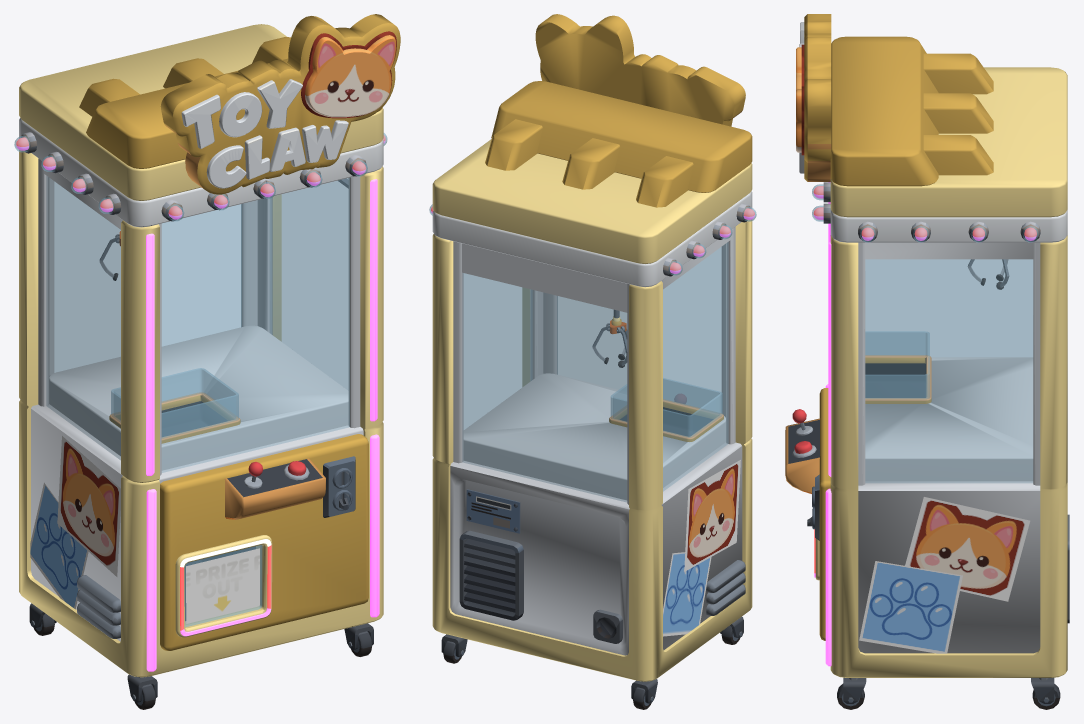
Rendered from maquina_pelucia_amarela_pacote.glb.
3 views of the same model, side by side, from view 1: azimuth 30°, elevation 25°; view 2: azimuth 150°, elevation 25°; view 3: azimuth 270°, elevation 25° (orthographic). The views are drawn at different scales.
Parts seen in each view (by area): view 1: maquina_pelucia_amarela_pacote, portinhola_premio; view 2: maquina_pelucia_amarela_pacote, garra; view 3: maquina_pelucia_amarela_pacote.
Part boxes in pixels (box(x1,y1,x2,y2)): maquina_pelucia_amarela_pacote: box(14, 14, 400, 709); portinhola_premio: box(184, 545, 262, 626); maquina_pelucia_amarela_pacote: box(429, 14, 756, 709); garra: box(592, 310, 627, 367); maquina_pelucia_amarela_pacote: box(785, 14, 1069, 709).
Bounding box in the file's own units: 0.919 × 2.02 × 0.816.
Materials: 8 (4 with a texture image).
